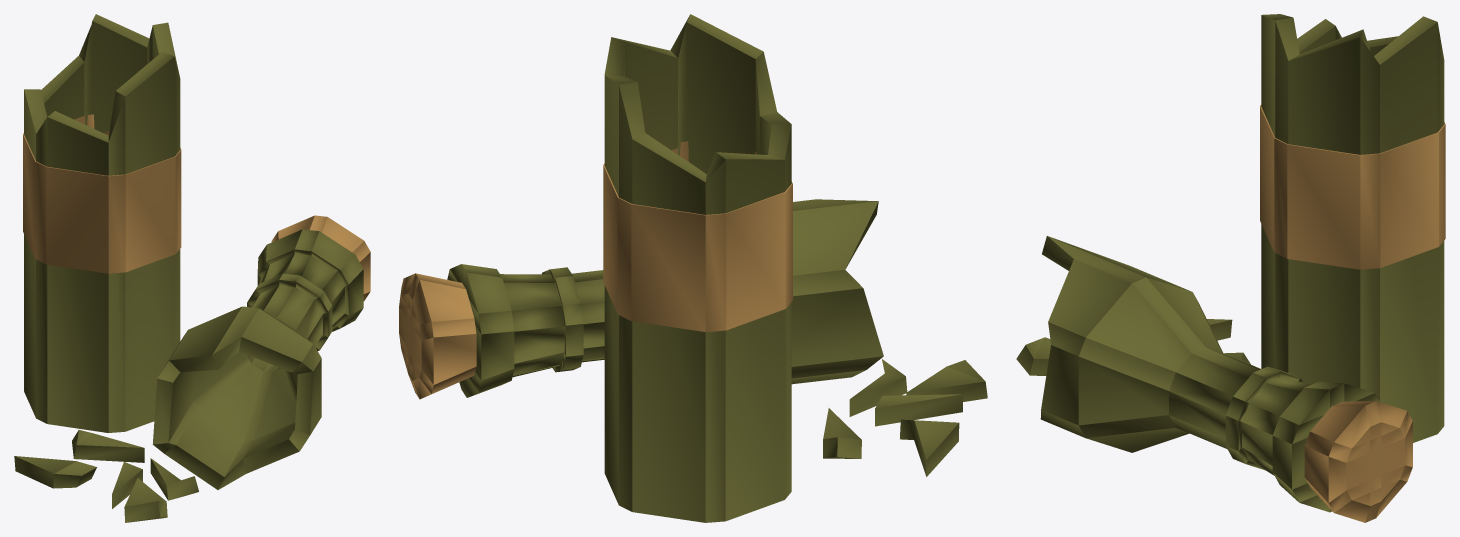
File: Bouteille_casse.fbx
The picture shows the model from 3 angles, left to right: view 1: azimuth 30°, elevation 25°; view 2: azimuth 150°, elevation 25°; view 3: azimuth 270°, elevation 25°; orthographic projection. The views are drawn at different scales.
Visible parts, largest first — view 1: Culde bouteille.001, BouchonBouteille.001, MOrceaux de verres.001; view 2: Culde bouteille.001, BouchonBouteille.001, MOrceaux de verres.001; view 3: Culde bouteille.001, BouchonBouteille.001, MOrceaux de verres.001.
Part boxes in pixels (bbox=[...]): Culde bouteille.001: bbox=[23, 14, 181, 432]; BouchonBouteille.001: bbox=[152, 215, 370, 489]; MOrceaux de verres.001: bbox=[14, 430, 198, 522]; Culde bouteille.001: bbox=[603, 14, 792, 522]; BouchonBouteille.001: bbox=[399, 199, 883, 399]; MOrceaux de verres.001: bbox=[823, 359, 987, 476]; Culde bouteille.001: bbox=[1260, 14, 1445, 442]; BouchonBouteille.001: bbox=[1040, 236, 1412, 522]; MOrceaux de verres.001: bbox=[1016, 319, 1250, 375].
Size of the model in its own units: 24.93 by 21.43 by 19.9.
